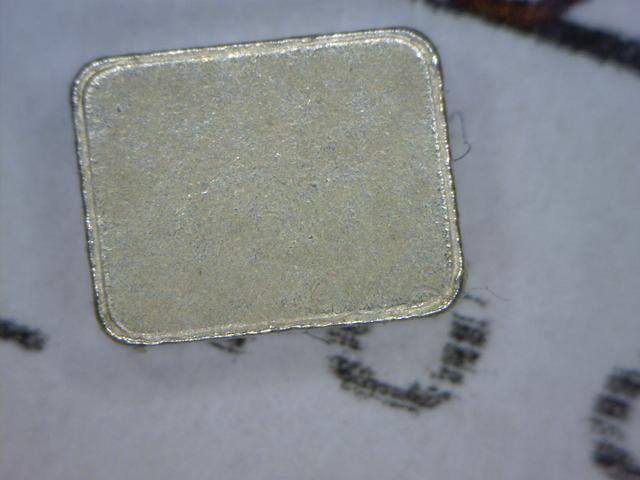nok: (68, 21, 467, 347)
